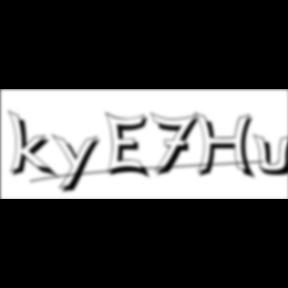7: (150, 111, 206, 179)
E: (106, 110, 154, 182)
H: (194, 112, 260, 182)
k: (7, 108, 60, 181)
y: (52, 132, 106, 196)
